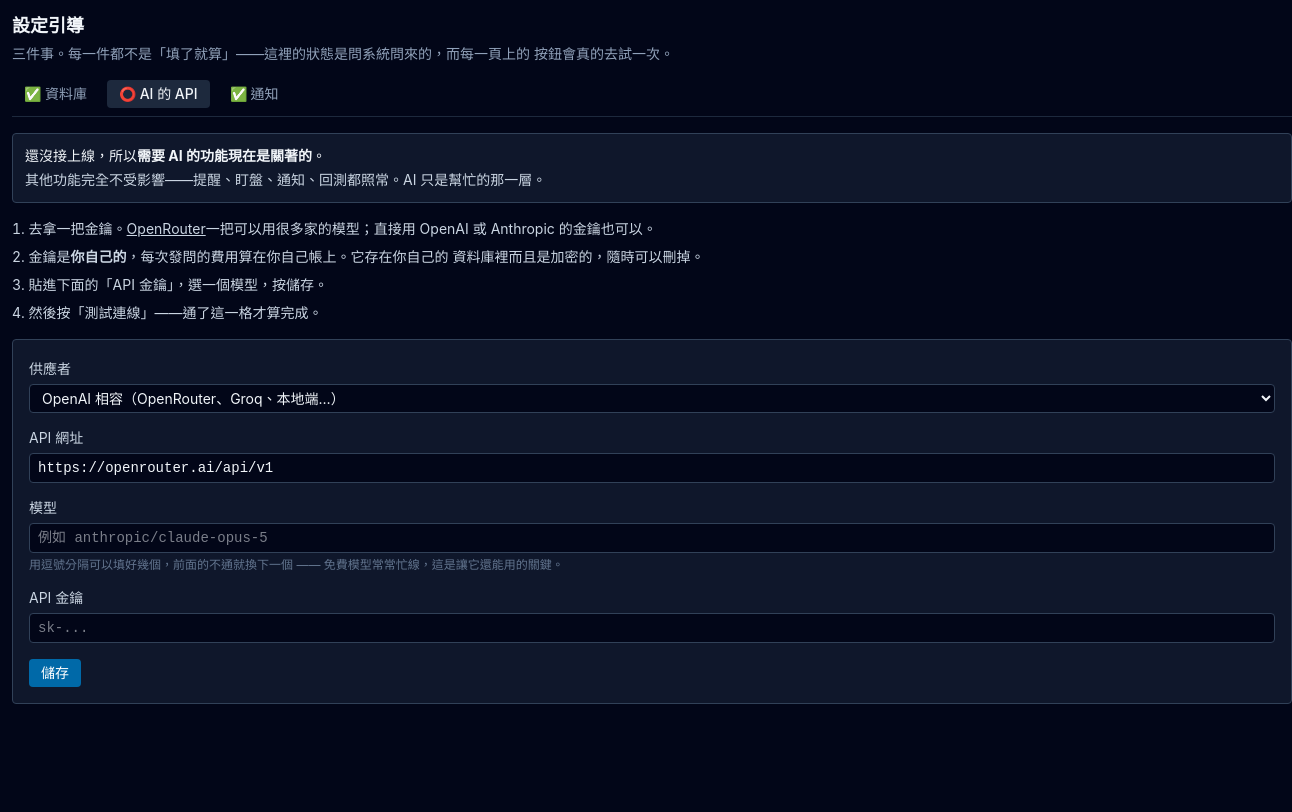
Test: 設定引導（分頁） › AI 沒設定的時候不給那條路 —— 靜態的引導自己要站得住
Step 1. Click the tab "✅ 資料庫" → click(55, 94), box left=12, top=80, right=99, bottom=108
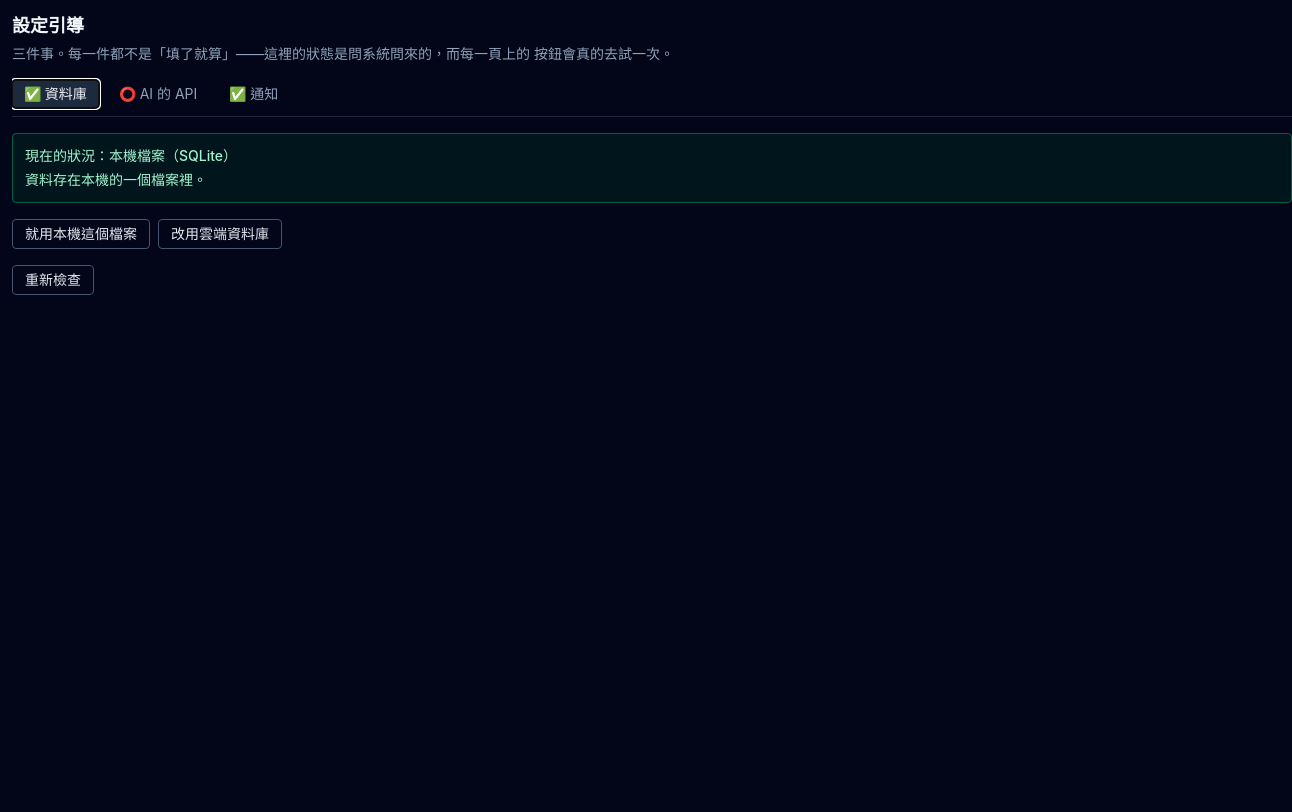
Expected: the button "改用雲端資料庫" is shown, left=158, top=219, right=282, bottom=249
